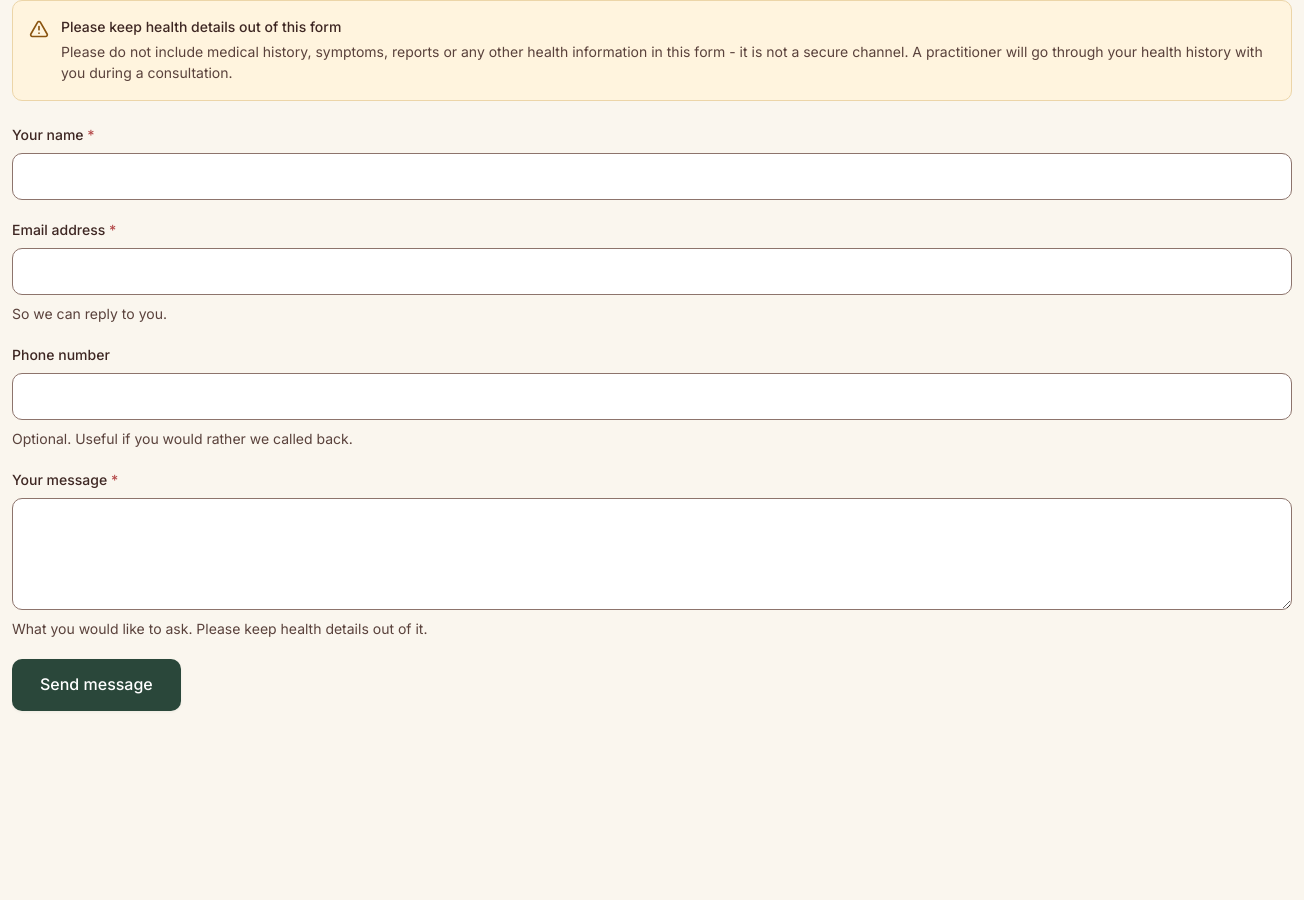
ContactForm › shows a safe failure message and never the underlying error
In the field labelled "Your name *": x=652, y=176 [12,153,1292,200], type "Test Patient"
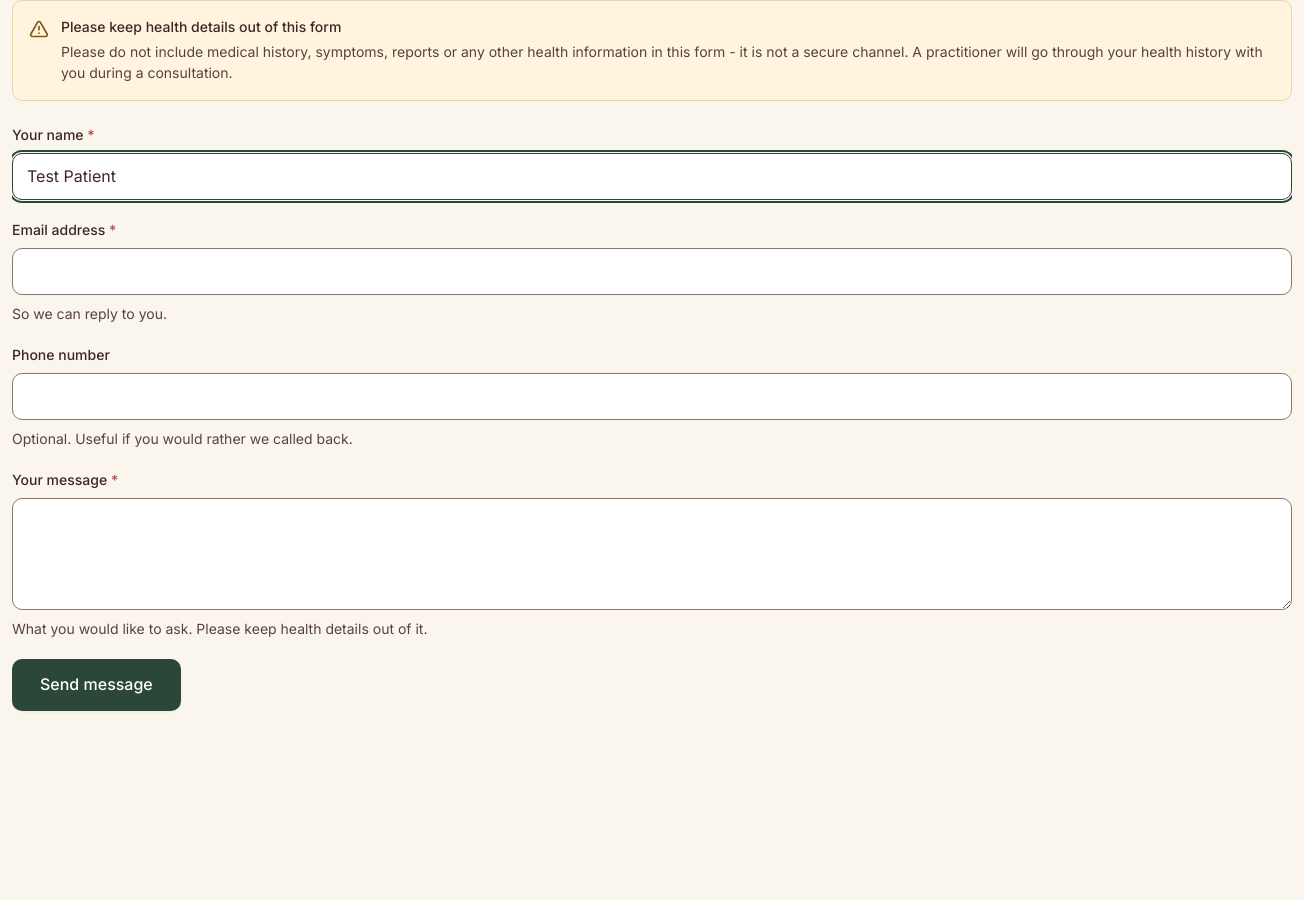
In the field labelled "Email address *": x=652, y=272 [12,248,1292,295], type "test.patient@example.test"
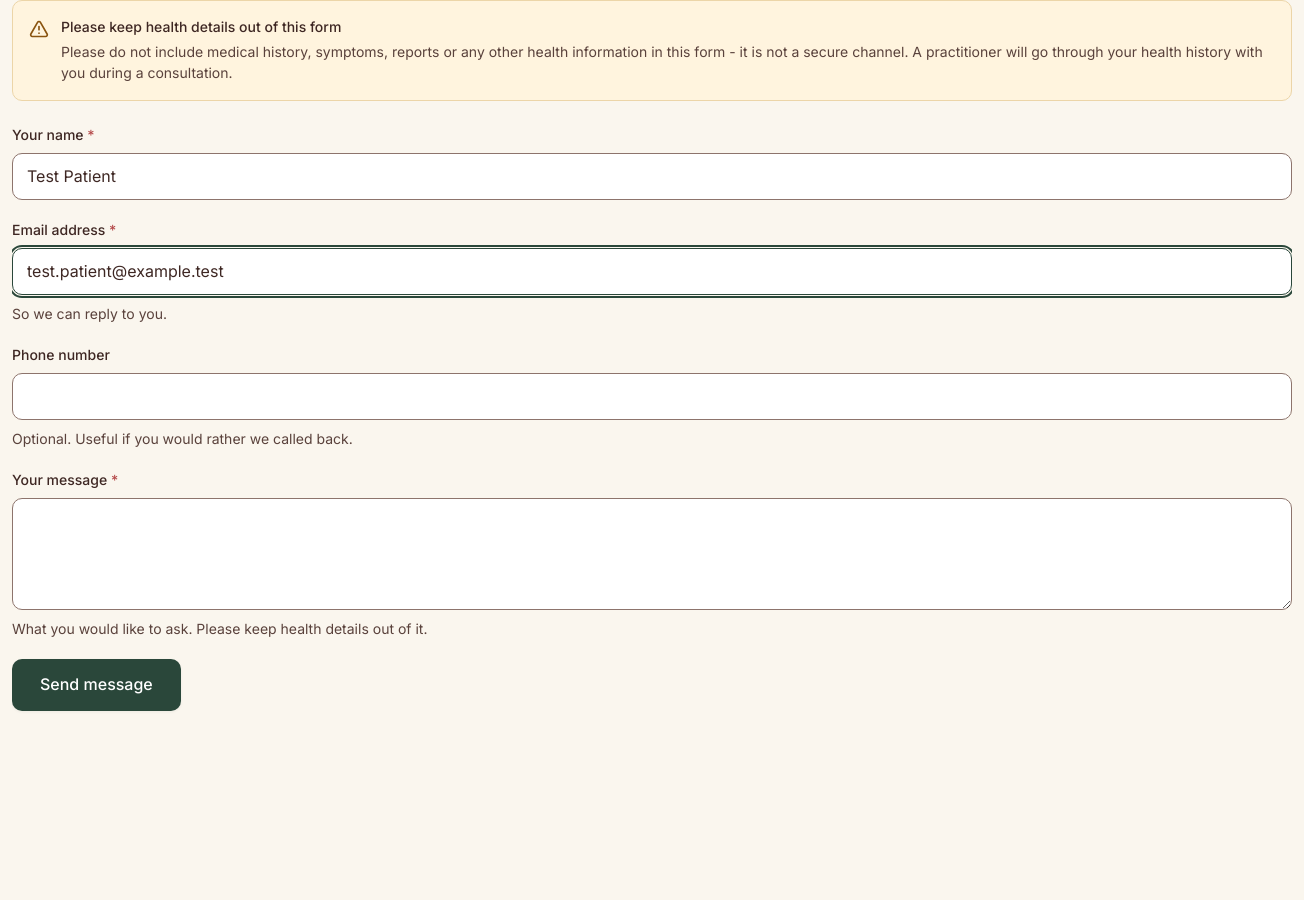
In the text box labelled "Your message *": x=652, y=554 [12,498,1292,610], type "I would like to ask about consultations at the clinic."
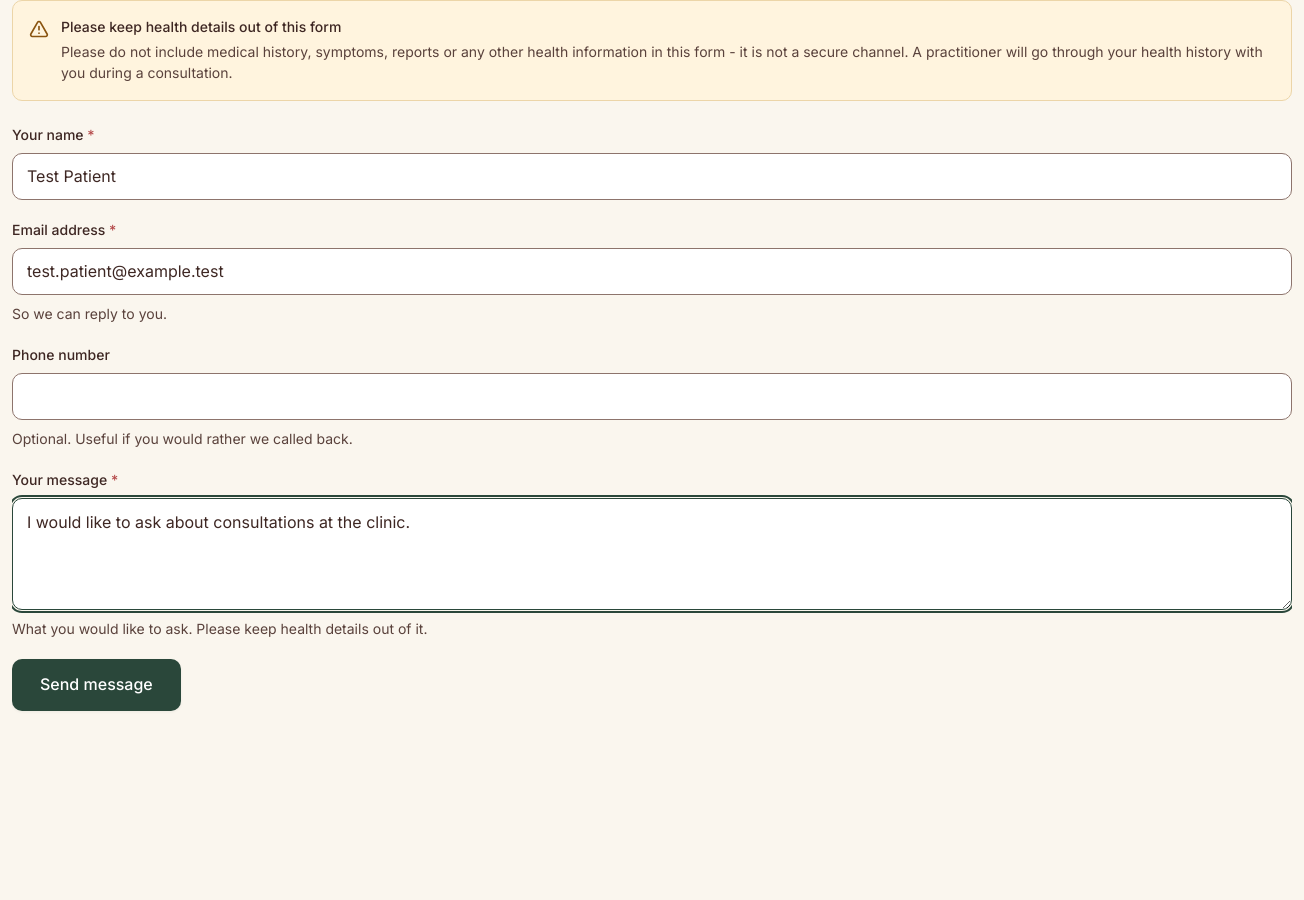
Click the button "Send message": x=96, y=685 [12,659,181,711]
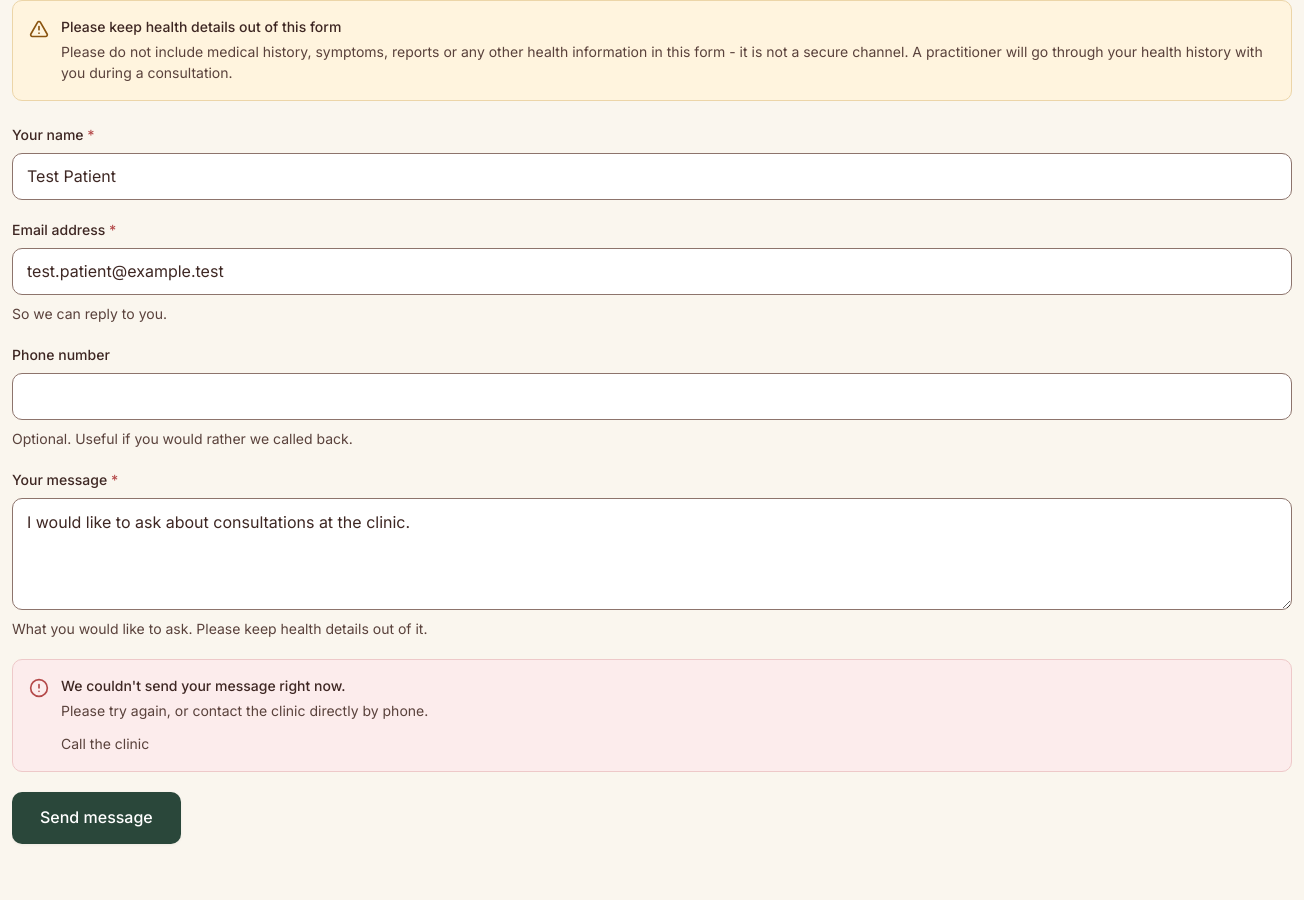
Result: the text "We couldn't send your message right now." is shown at [61,677,346,694]
Result: the text "Call the clinic" is shown at [61,734,149,755]
